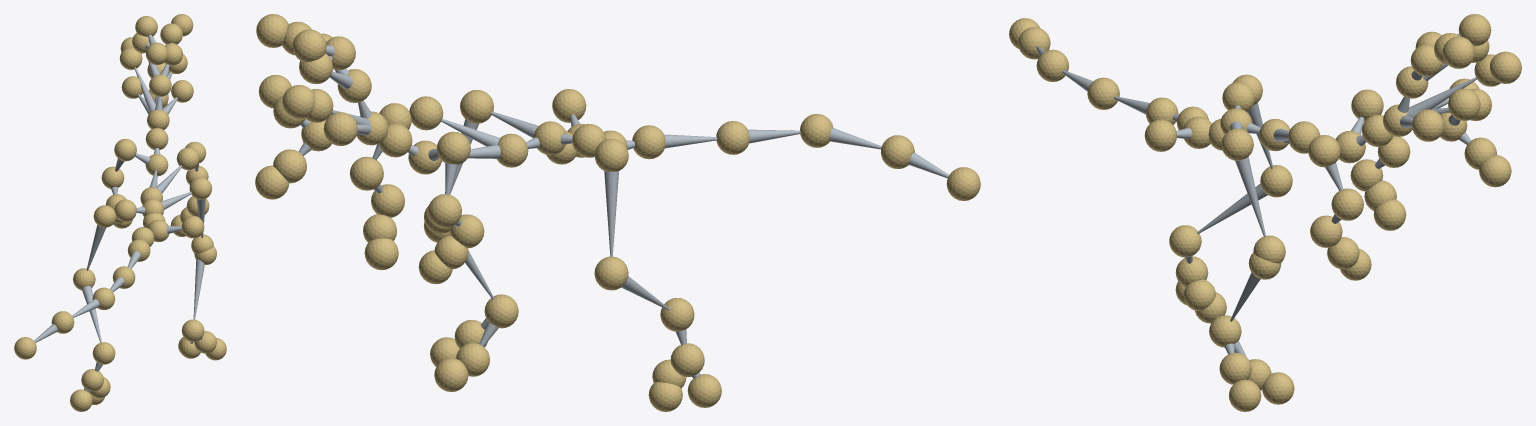
Rendered from skeleton.glb.
The picture shows the model from 3 angles, left to right: view 1: azimuth 30°, elevation 25°; view 2: azimuth 150°, elevation 25°; view 3: azimuth 270°, elevation 25°; orthographic projection. The views are drawn at different scales.
Parts seen in each view (by area): view 1: world; view 2: world; view 3: world.
Part boxes in pixels (x1,y1,x2,y2): world: (14, 14, 226, 411); world: (255, 14, 980, 411); world: (1009, 14, 1521, 411).
Bounding box in the file's own units: 0.9739 × 0.8087 × 0.9218.
